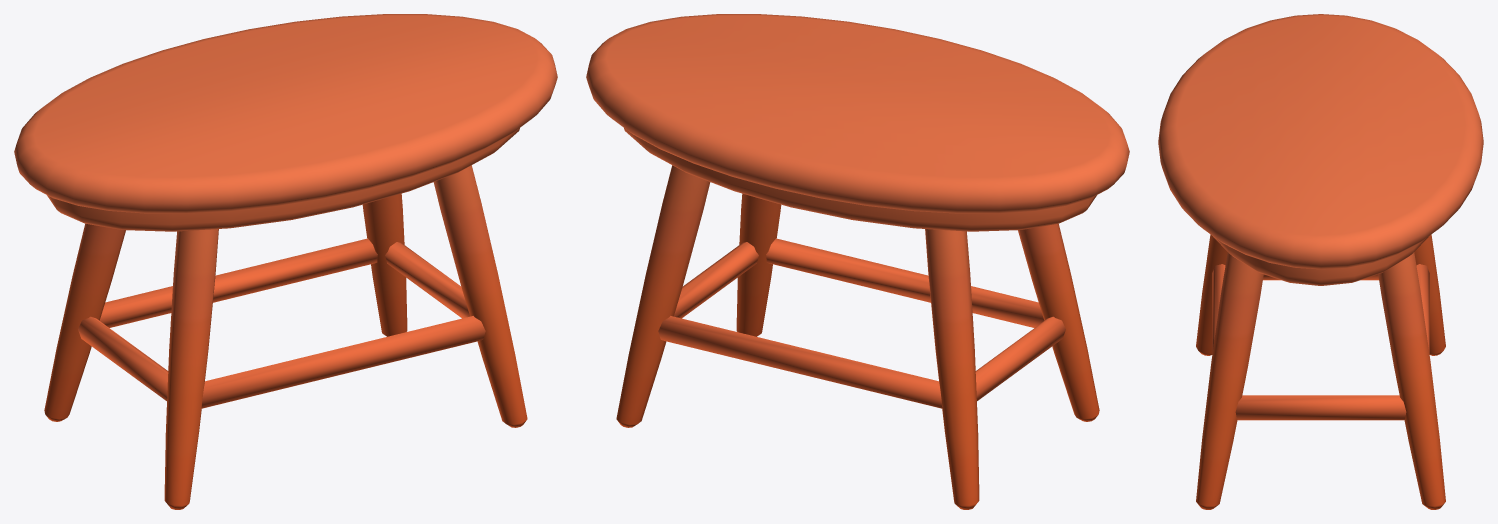
The model's file is Kitchen_Table_06.glb.
3 views of the same model, side by side, from view 1: azimuth 30°, elevation 25°; view 2: azimuth 150°, elevation 25°; view 3: azimuth 270°, elevation 25° (orthographic). The views are drawn at different scales.
Parts seen in each view (by area): view 1: Kitchen_Table_06; view 2: Kitchen_Table_06; view 3: Kitchen_Table_06.
Boxes of the visible parts, box(x1,y1,x2,y2) form: Kitchen_Table_06: box(14, 14, 557, 509); Kitchen_Table_06: box(586, 14, 1129, 509); Kitchen_Table_06: box(1158, 14, 1483, 509).
Size of the model in its own units: 1.2 by 0.7247 by 0.7.
Materials: 1 (1 with a texture image).
